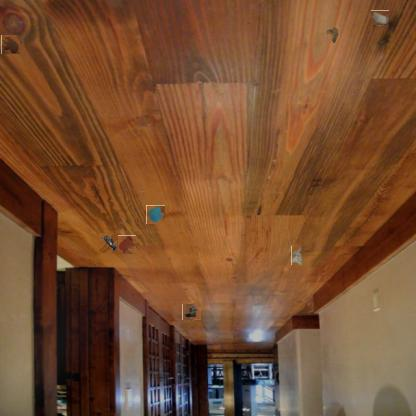dirty: (99, 233, 119, 253), (146, 205, 165, 224), (325, 25, 341, 45), (183, 304, 200, 321), (372, 10, 389, 26), (291, 245, 302, 265)
liquid: (1, 34, 20, 54), (118, 236, 137, 254)
